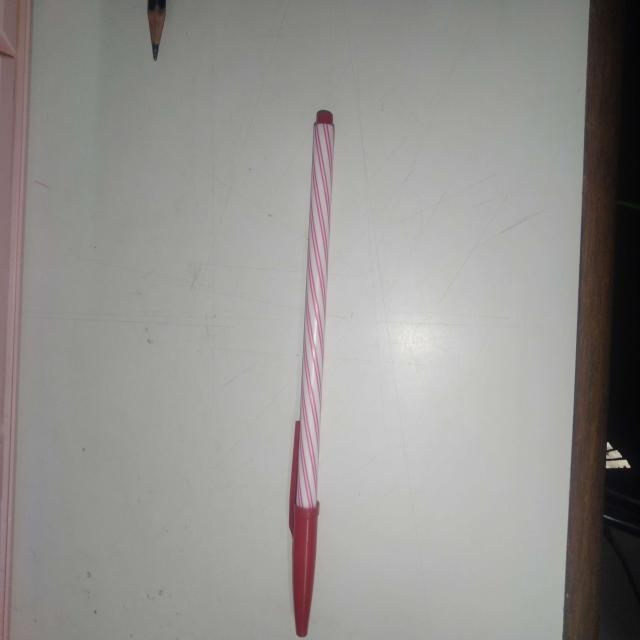pen_pencil: (251, 83, 370, 640)
